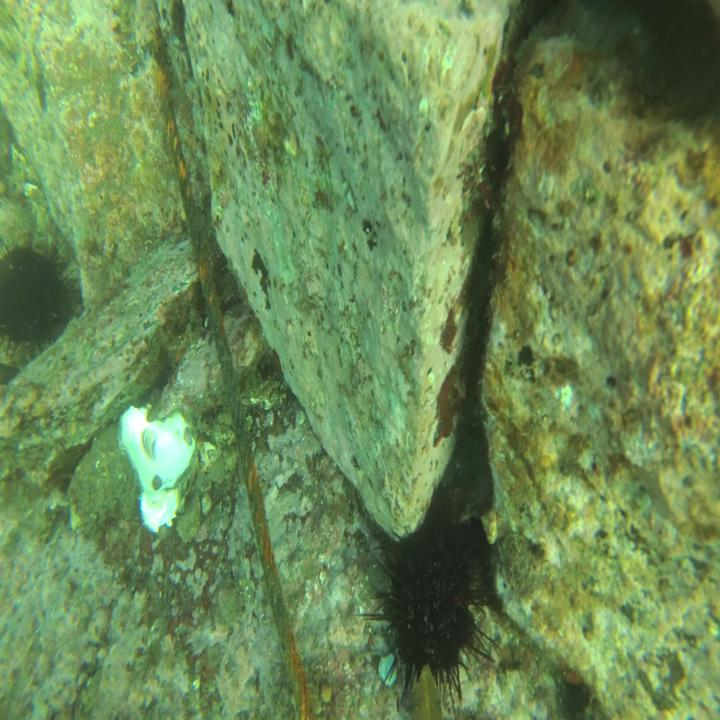echinus: (368, 499, 500, 700), (0, 229, 73, 352)
